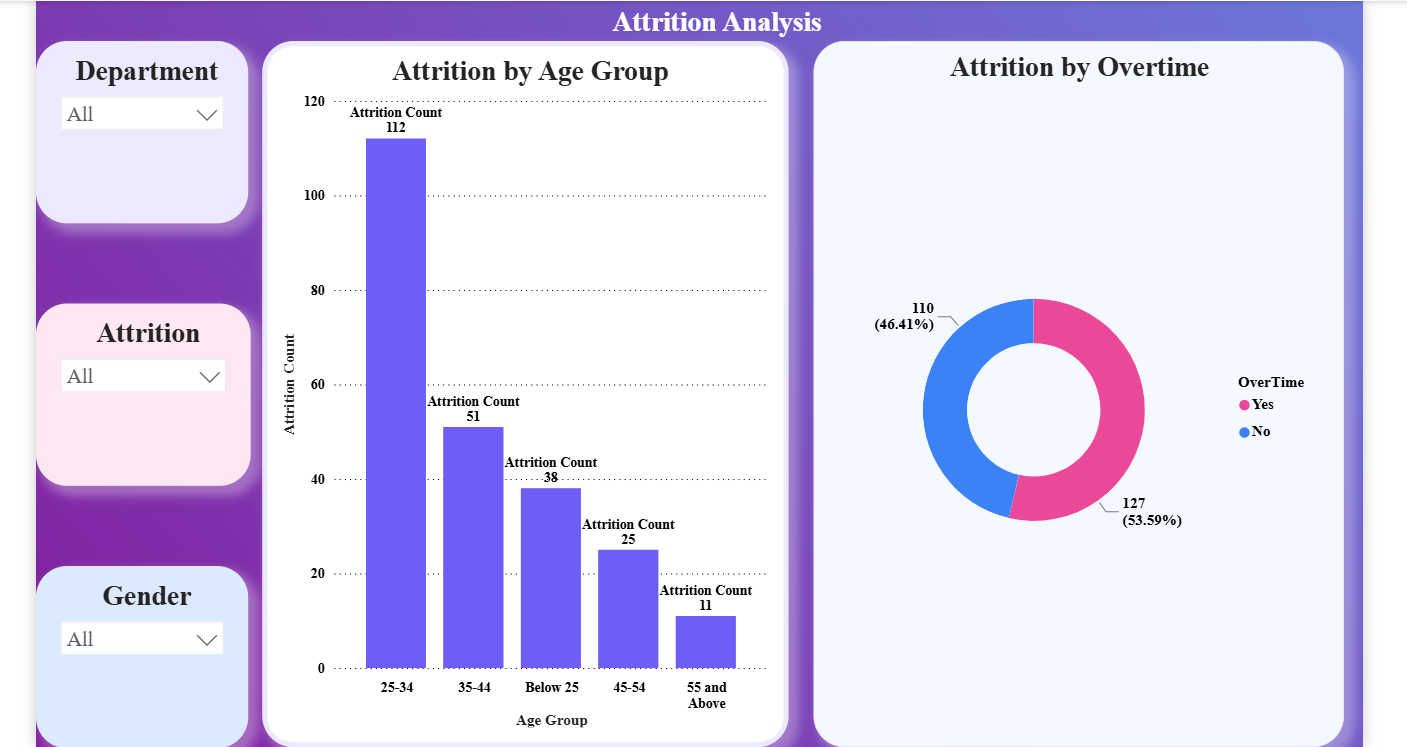

What the dashboard file says about the page in this screenshot:
{"tool":"powerbi","page":{"name":"Attrition Analysis","canvas":[1280,720],"ordinal":2},"visuals":[{"type":"textbox","box":[408.9,0,496.7,57.6],"z":0},{"type":"slicer","title":"Department","fields":{"Values":["hr_attrition_analysis hr_attrition.Department"]},"box":[0,38.4,204.5,175.6],"z":1},{"type":"slicer","title":"Gender","fields":{"Values":["hr_attrition_analysis hr_attrition.Gender"]},"box":[0,544.8,204.5,175.6],"z":2},{"type":"slicer","title":"Attrition","fields":{"Values":["hr_attrition_analysis hr_attrition.Attrition"]},"box":[0,292.3,207.2,175.6],"z":3},{"type":"clusteredColumnChart","title":"Attrition by Age Group","fields":{"Category":["hr_attrition_analysis hr_attrition.Age Group"],"Y":["hr_attrition_analysis hr_attrition.Attrition Count"]},"box":[218.2,38.4,507.7,682],"z":4},{"type":"donutChart","title":"Attrition by Overtime","fields":{"Category":["hr_attrition_analysis hr_attrition.OverTime"],"Y":["hr_attrition_analysis hr_attrition.Attrition Count"]},"box":[750.6,38.4,511.8,682],"z":5}]}

Visuals, with their boxes in screenshot pixels (x1, y1, x2, y2):
textbox: region(459, 0, 967, 59)
"Department" slicer: region(40, 39, 250, 219)
"Gender" slicer: region(40, 558, 250, 738)
"Attrition" slicer: region(40, 299, 252, 479)
"Attrition by Age Group" clusteredColumnChart: region(264, 39, 783, 738)
"Attrition by Overtime" donutChart: region(809, 39, 1333, 738)
